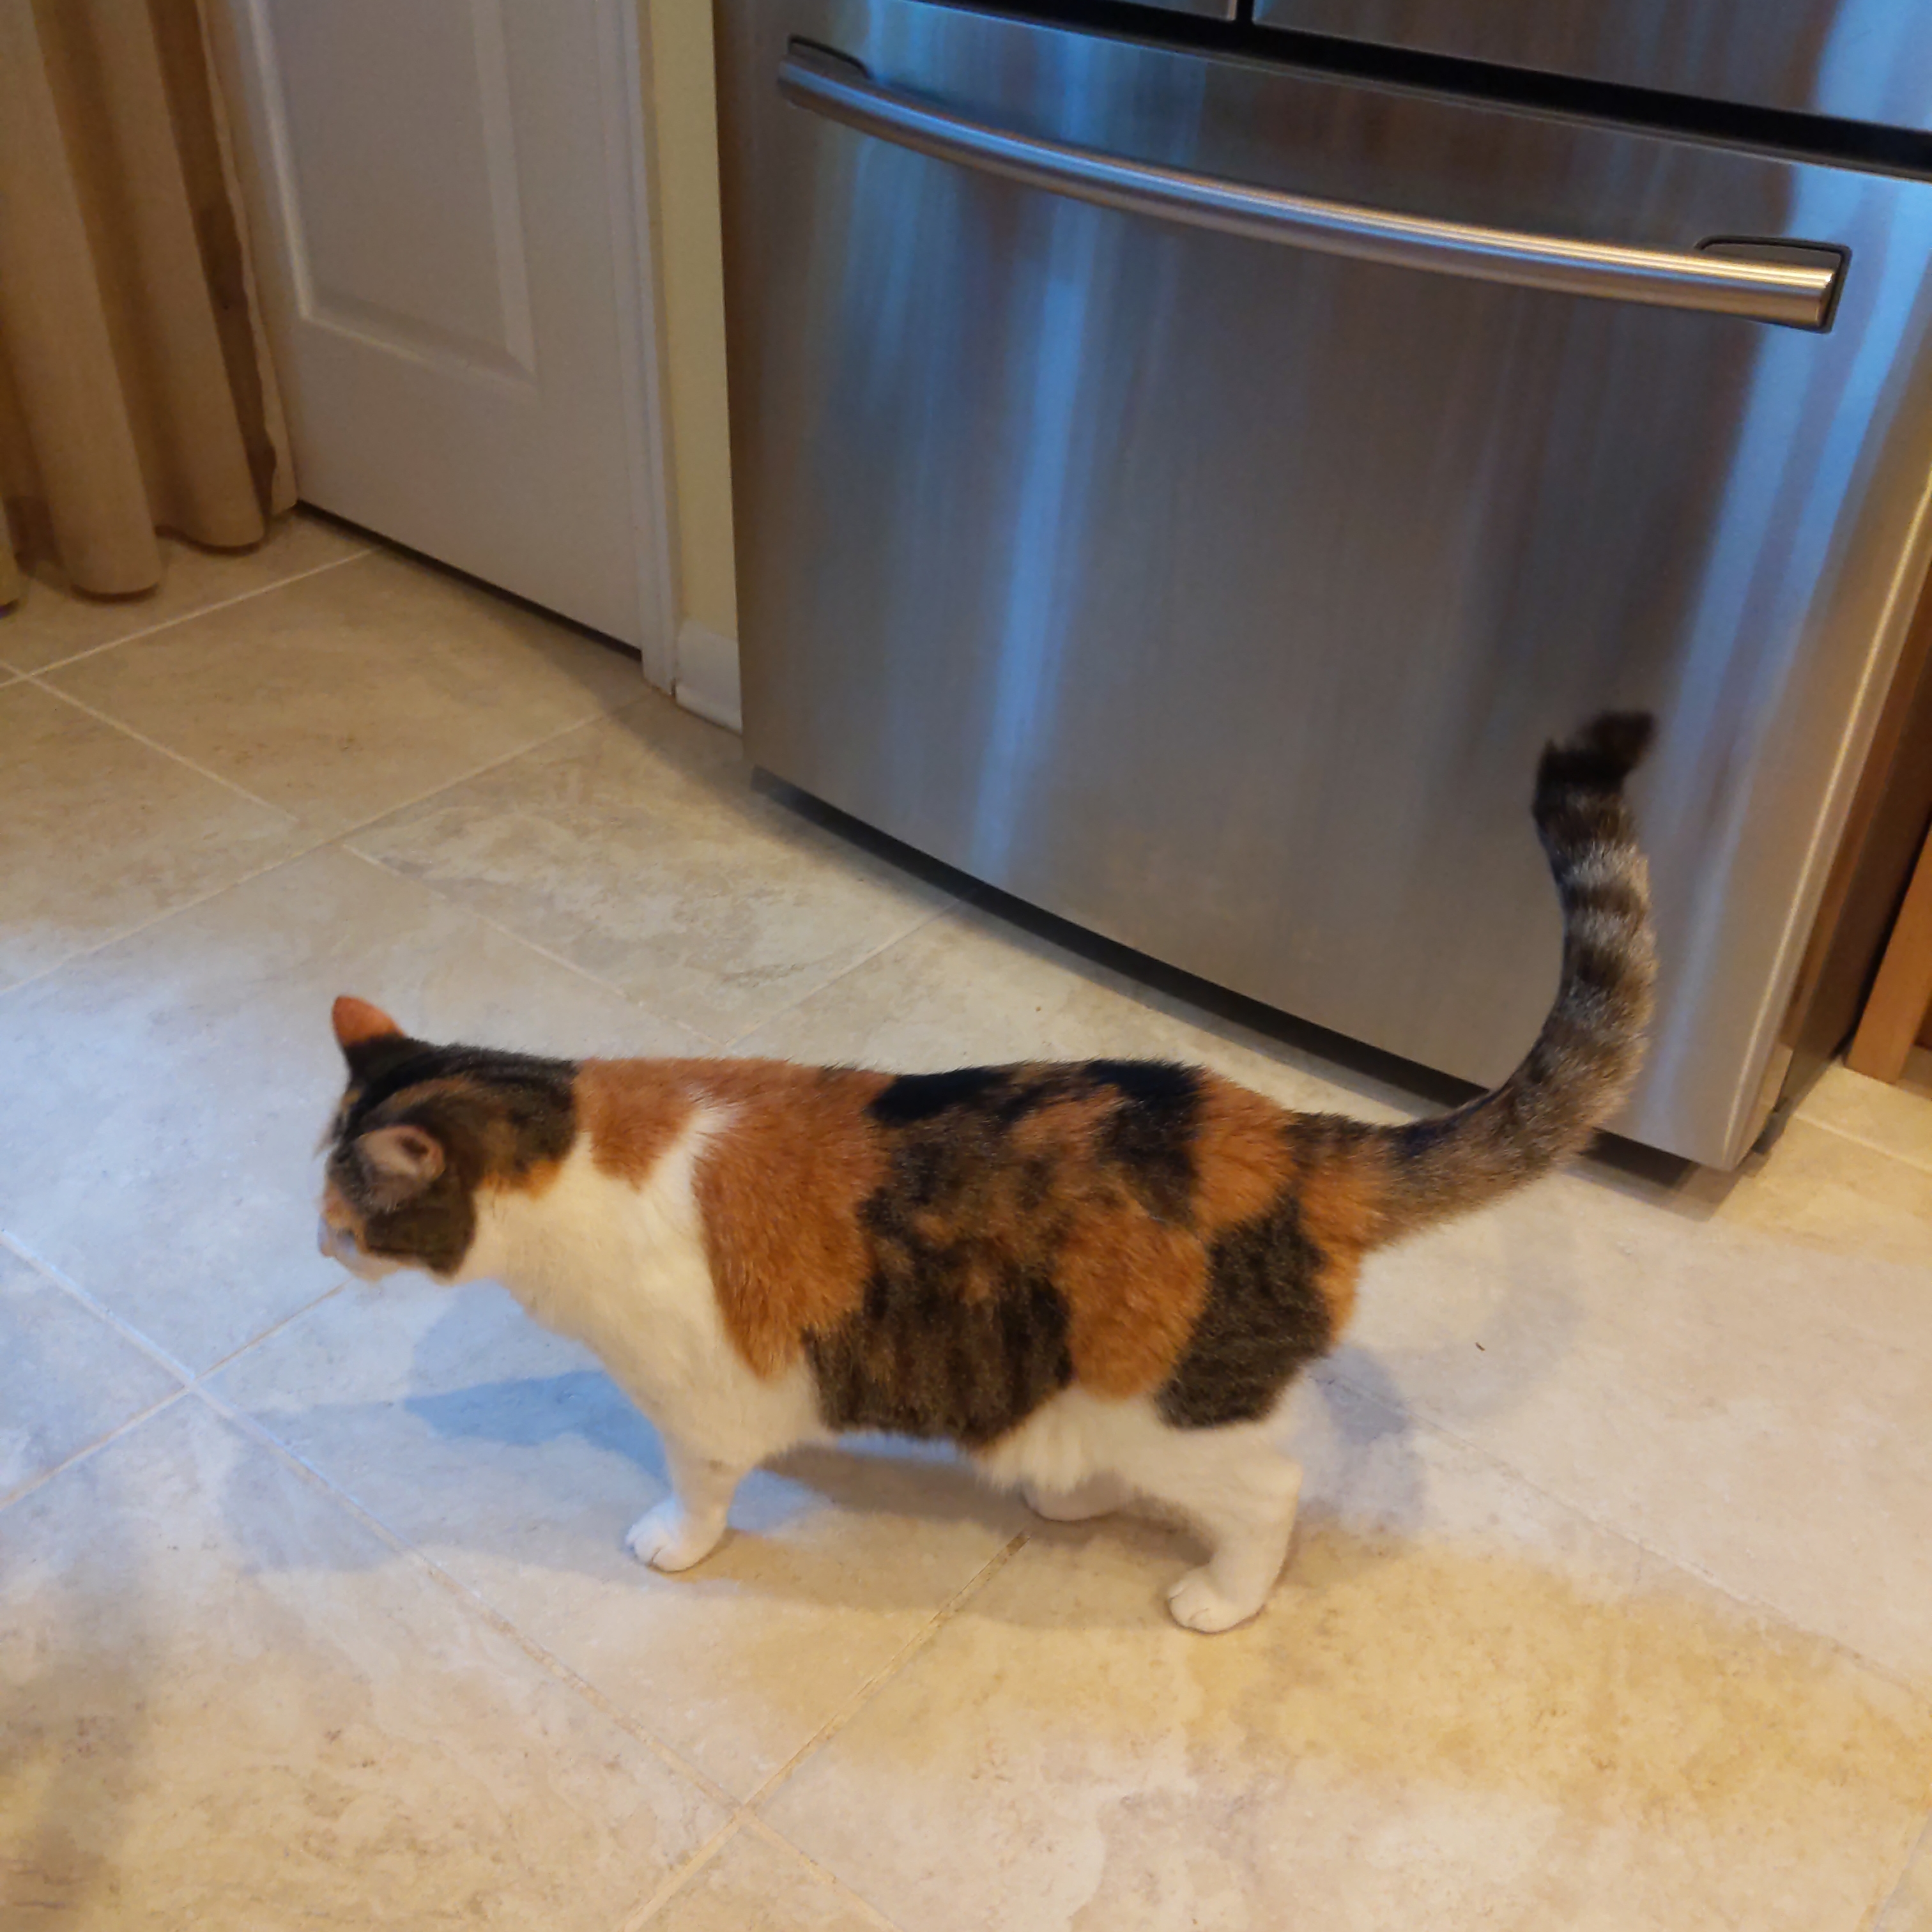Calico: (313, 708, 1661, 1633)
